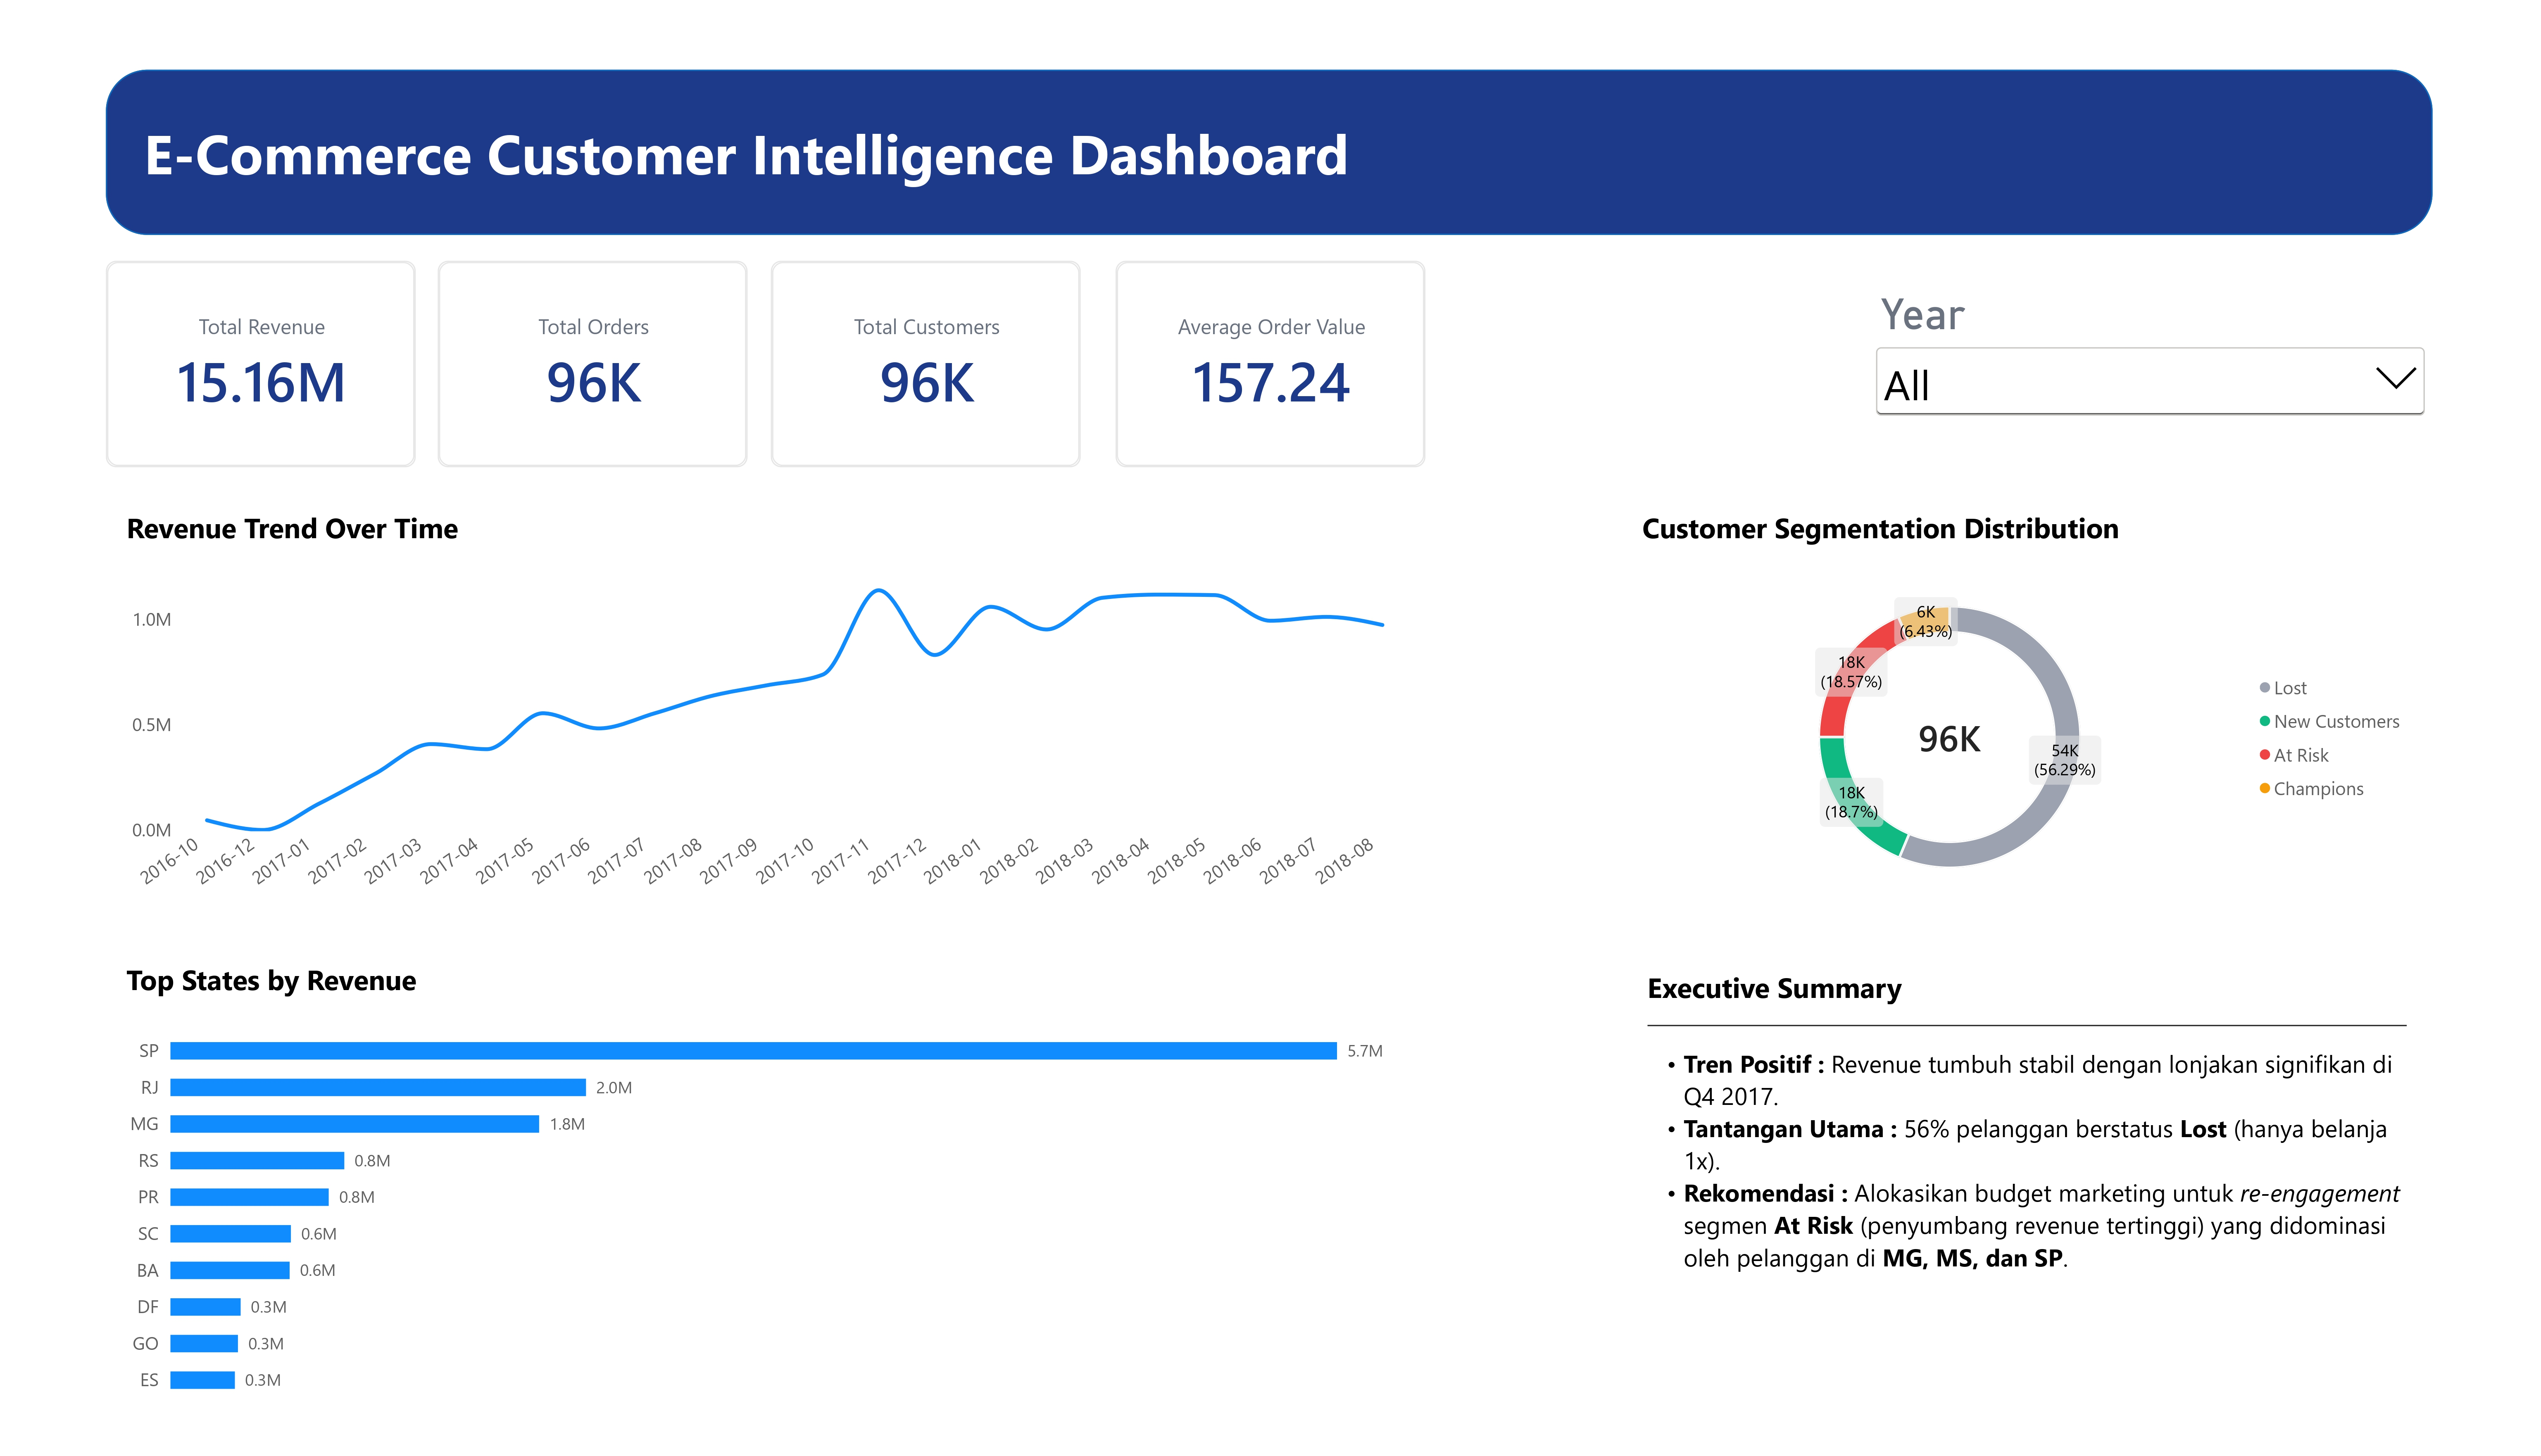

This screenshot's page, from the dashboard's own definition file:
{"tool":"powerbi","page":{"name":"E-Commerce Customer Intelligence","canvas":[1920,1080],"ordinal":0},"visuals":[{"type":"cardVisual","fields":{"Data":["public fact_sales_clean.Total Revenue"]},"box":[57.5,177.5,240,160],"z":0},{"type":"cardVisual","fields":{"Data":["public fact_sales_clean.Total Orders"]},"box":[315,177.5,240,160],"z":1},{"type":"cardVisual","fields":{"Data":["public fact_sales_clean.Total Customers"]},"box":[572.5,177.5,240,160],"z":2},{"type":"cardVisual","fields":{"Data":["public fact_sales_clean.Average Order Value"]},"box":[840,177.5,240,160],"z":3},{"type":"lineChart","title":"Revenue Trend Over Time","fields":{"Category":["public dim_date.year_month"],"Y":["public fact_sales_clean.Total Revenue"]},"box":[57.5,357.5,882.5,340],"z":4},{"type":"clusteredBarChart","title":"Top States by Revenue","fields":{"Category":["public olist_customers_dataset.customer_state"],"Y":["public fact_sales_clean.Total Revenue"]},"box":[987.5,357.5,872.5,340],"z":5},{"type":"donutChart","title":"Customer Segmentation Distribution","fields":{"Category":["public v_rfm_analysis.customer_segment"],"Y":["public fact_sales_clean.Total Customers"]},"box":[176.7,696.7,643.3,380],"z":6},{"type":"tableEx","title":"Top 10 At-Risk High-Value Customers","fields":{"Values":["public v_rfm_analysis.customer_state","public v_rfm_analysis.recency_days","public v_rfm_analysis.monetary","public v_rfm_analysis.customer_segment"]},"box":[987.5,697.5,872.5,380],"z":7},{"type":"shape","title":"E-Commerce Customer Intelligence Dashboard","box":[57.5,30,1802.5,127.5],"z":8},{"type":"slicer","fields":{"Values":["public dim_date.year"]},"box":[1425,200,435,115],"z":9}]}

Visuals, with their boxes on the page's 1920x1080 design canvas (x1, y1, x2, y2). These are canvas units, not pixel positions in the 2541x1456 screenshot, which may show the page scaled, cropped or inside an application window:
cardVisual - public fact_sales_clean.Total Revenue: <bbox>58, 178, 298, 338</bbox>
cardVisual - public fact_sales_clean.Total Orders: <bbox>315, 178, 555, 338</bbox>
cardVisual - public fact_sales_clean.Total Customers: <bbox>572, 178, 812, 338</bbox>
cardVisual - public fact_sales_clean.Average Order Value: <bbox>840, 178, 1080, 338</bbox>
"Revenue Trend Over Time" lineChart: <bbox>58, 358, 940, 698</bbox>
"Top States by Revenue" clusteredBarChart: <bbox>988, 358, 1860, 698</bbox>
"Customer Segmentation Distribution" donutChart: <bbox>177, 697, 820, 1077</bbox>
"Top 10 At-Risk High-Value Customers" tableEx: <bbox>988, 698, 1860, 1078</bbox>
"E-Commerce Customer Intelligence Dashboard" shape: <bbox>58, 30, 1860, 158</bbox>
slicer - public dim_date.year: <bbox>1425, 200, 1860, 315</bbox>
